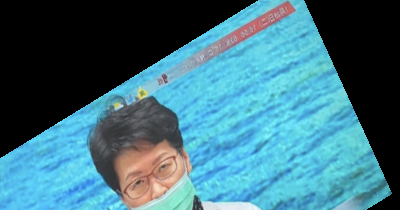mask_weared_incorrect: (88, 91, 214, 210)
